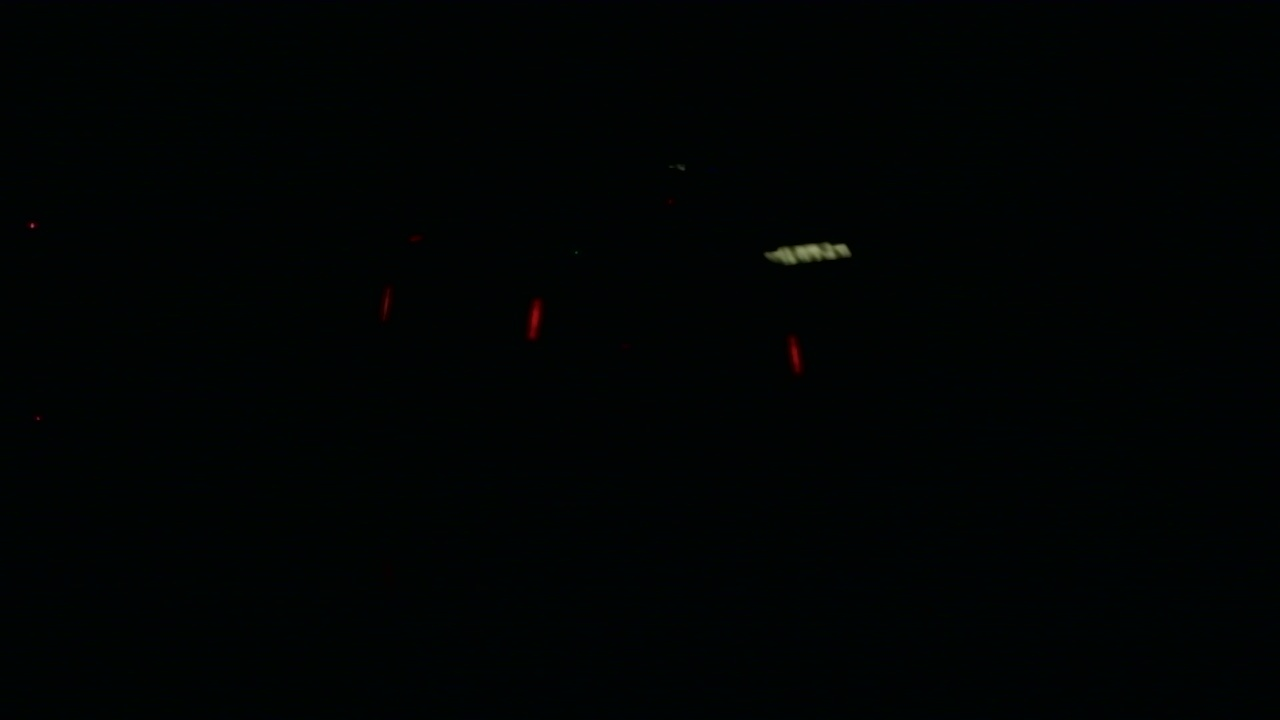lamp: (529, 282, 542, 336), (377, 281, 388, 340)
pair2: (377, 285, 543, 339)
